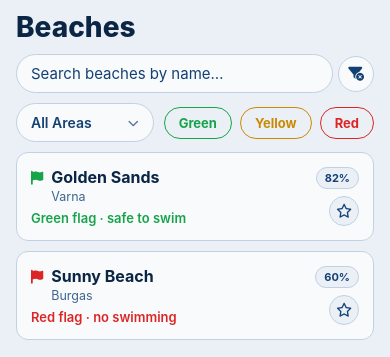
it: BeachList › narrows to a single flag color
Click the radio button with aria-label "Red flag".
click(347, 122)  # box [320,106,374,138]
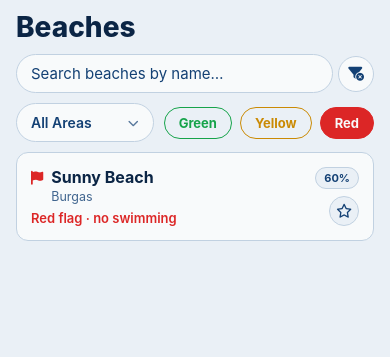
expect the text "Sunny Beach" is shown: met, box [51,167,154,187]
expect the button "Golden Sands" is gone: met
